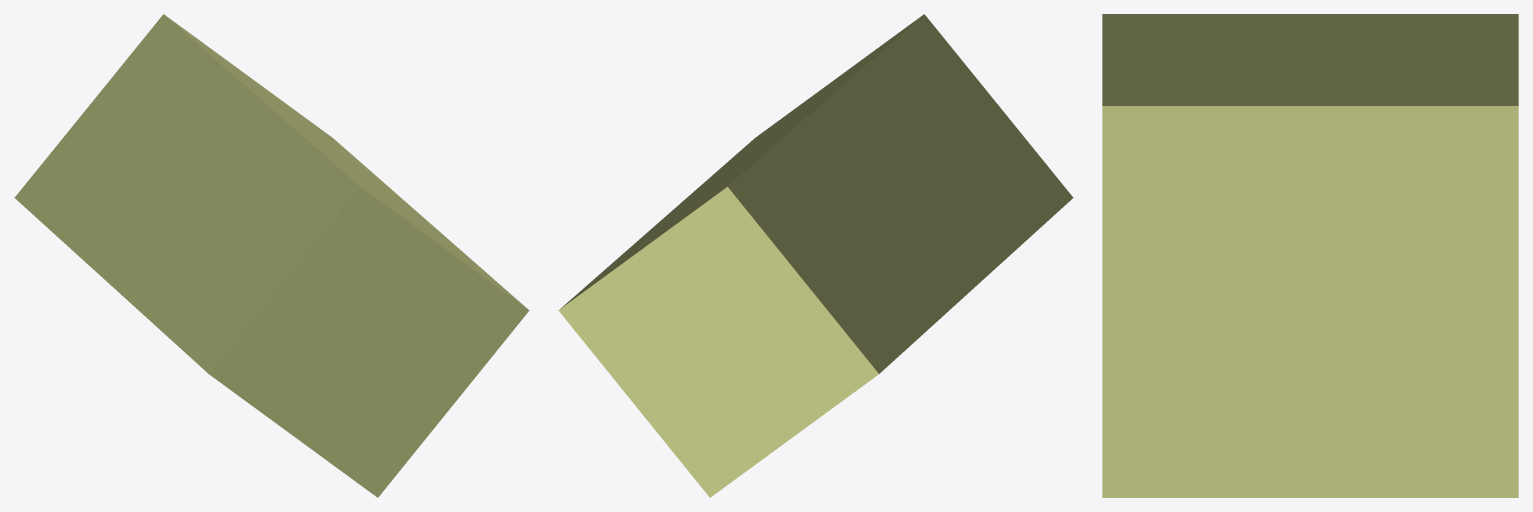
3 renders of one model, left to right at view 1: azimuth 30°, elevation 25°; view 2: azimuth 150°, elevation 25°; view 3: azimuth 270°, elevation 25°, orthographic. The views are drawn at different scales.
Parts seen in each view (by area): view 1: 0_1_2_0_1_3_0_0_1_0_0; view 2: 0_1_2_0_1_3_0_0_1_0_0; view 3: 0_1_2_0_1_3_0_0_1_0_0.
Part boxes in pixels (x1,y1,x2,y2): 0_1_2_0_1_3_0_0_1_0_0: (14, 14, 529, 497); 0_1_2_0_1_3_0_0_1_0_0: (558, 14, 1073, 497); 0_1_2_0_1_3_0_0_1_0_0: (1102, 14, 1518, 497).
Size of the model in its own units: 7.08 by 7.26 by 6.
